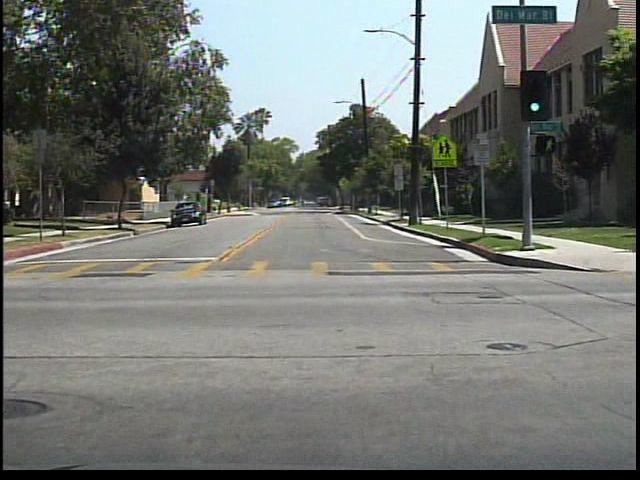person: (297, 193, 311, 211)
